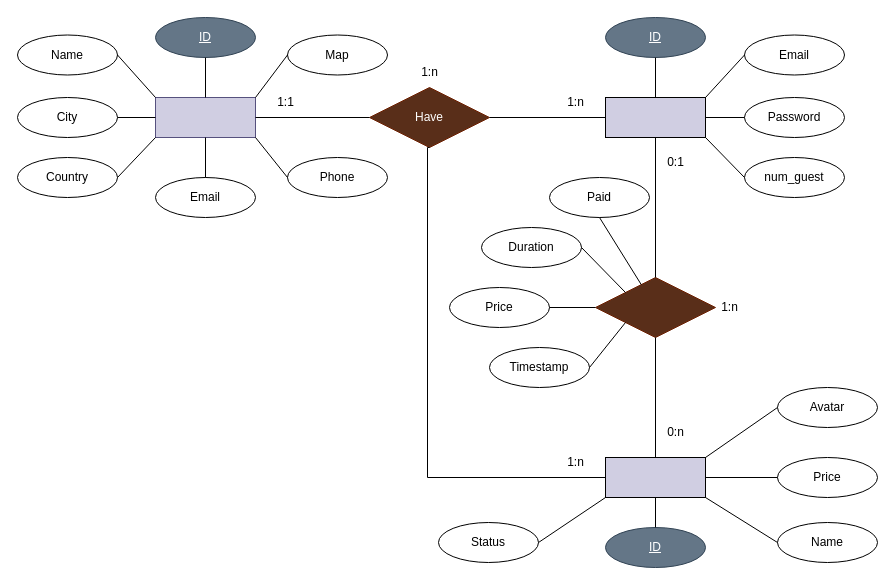
The diagram is 895 pixels wide and 585 high, and some of its shapes have lost their labels. Here are the shapes that lost their labels. From the top down, the centre of each, then its label:
pixel 205 117: Hotel
pixel 655 117: User
pixel 655 307: Book
pixel 655 477: Product
